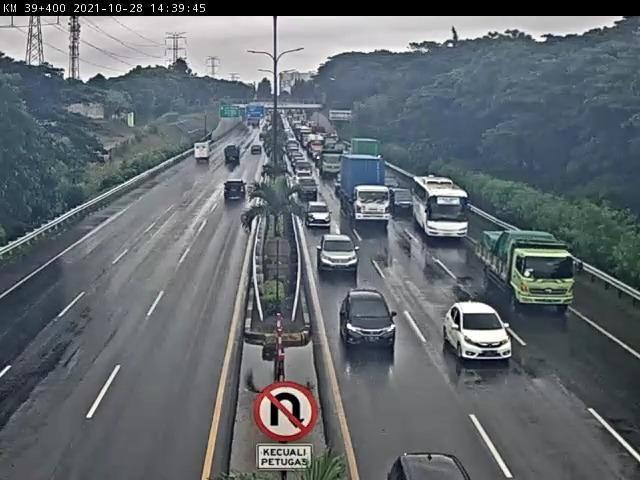bus: (411, 167, 475, 248)
car: (439, 297, 516, 370), (336, 288, 407, 356), (388, 448, 476, 480), (315, 232, 367, 284), (300, 201, 334, 234), (388, 186, 419, 220), (220, 180, 248, 206), (296, 174, 322, 201), (293, 169, 315, 187), (249, 143, 266, 164), (294, 158, 316, 173), (225, 144, 242, 163)
truck: (472, 215, 583, 319), (337, 151, 393, 224), (349, 134, 386, 166), (314, 148, 348, 180), (193, 139, 213, 163)
